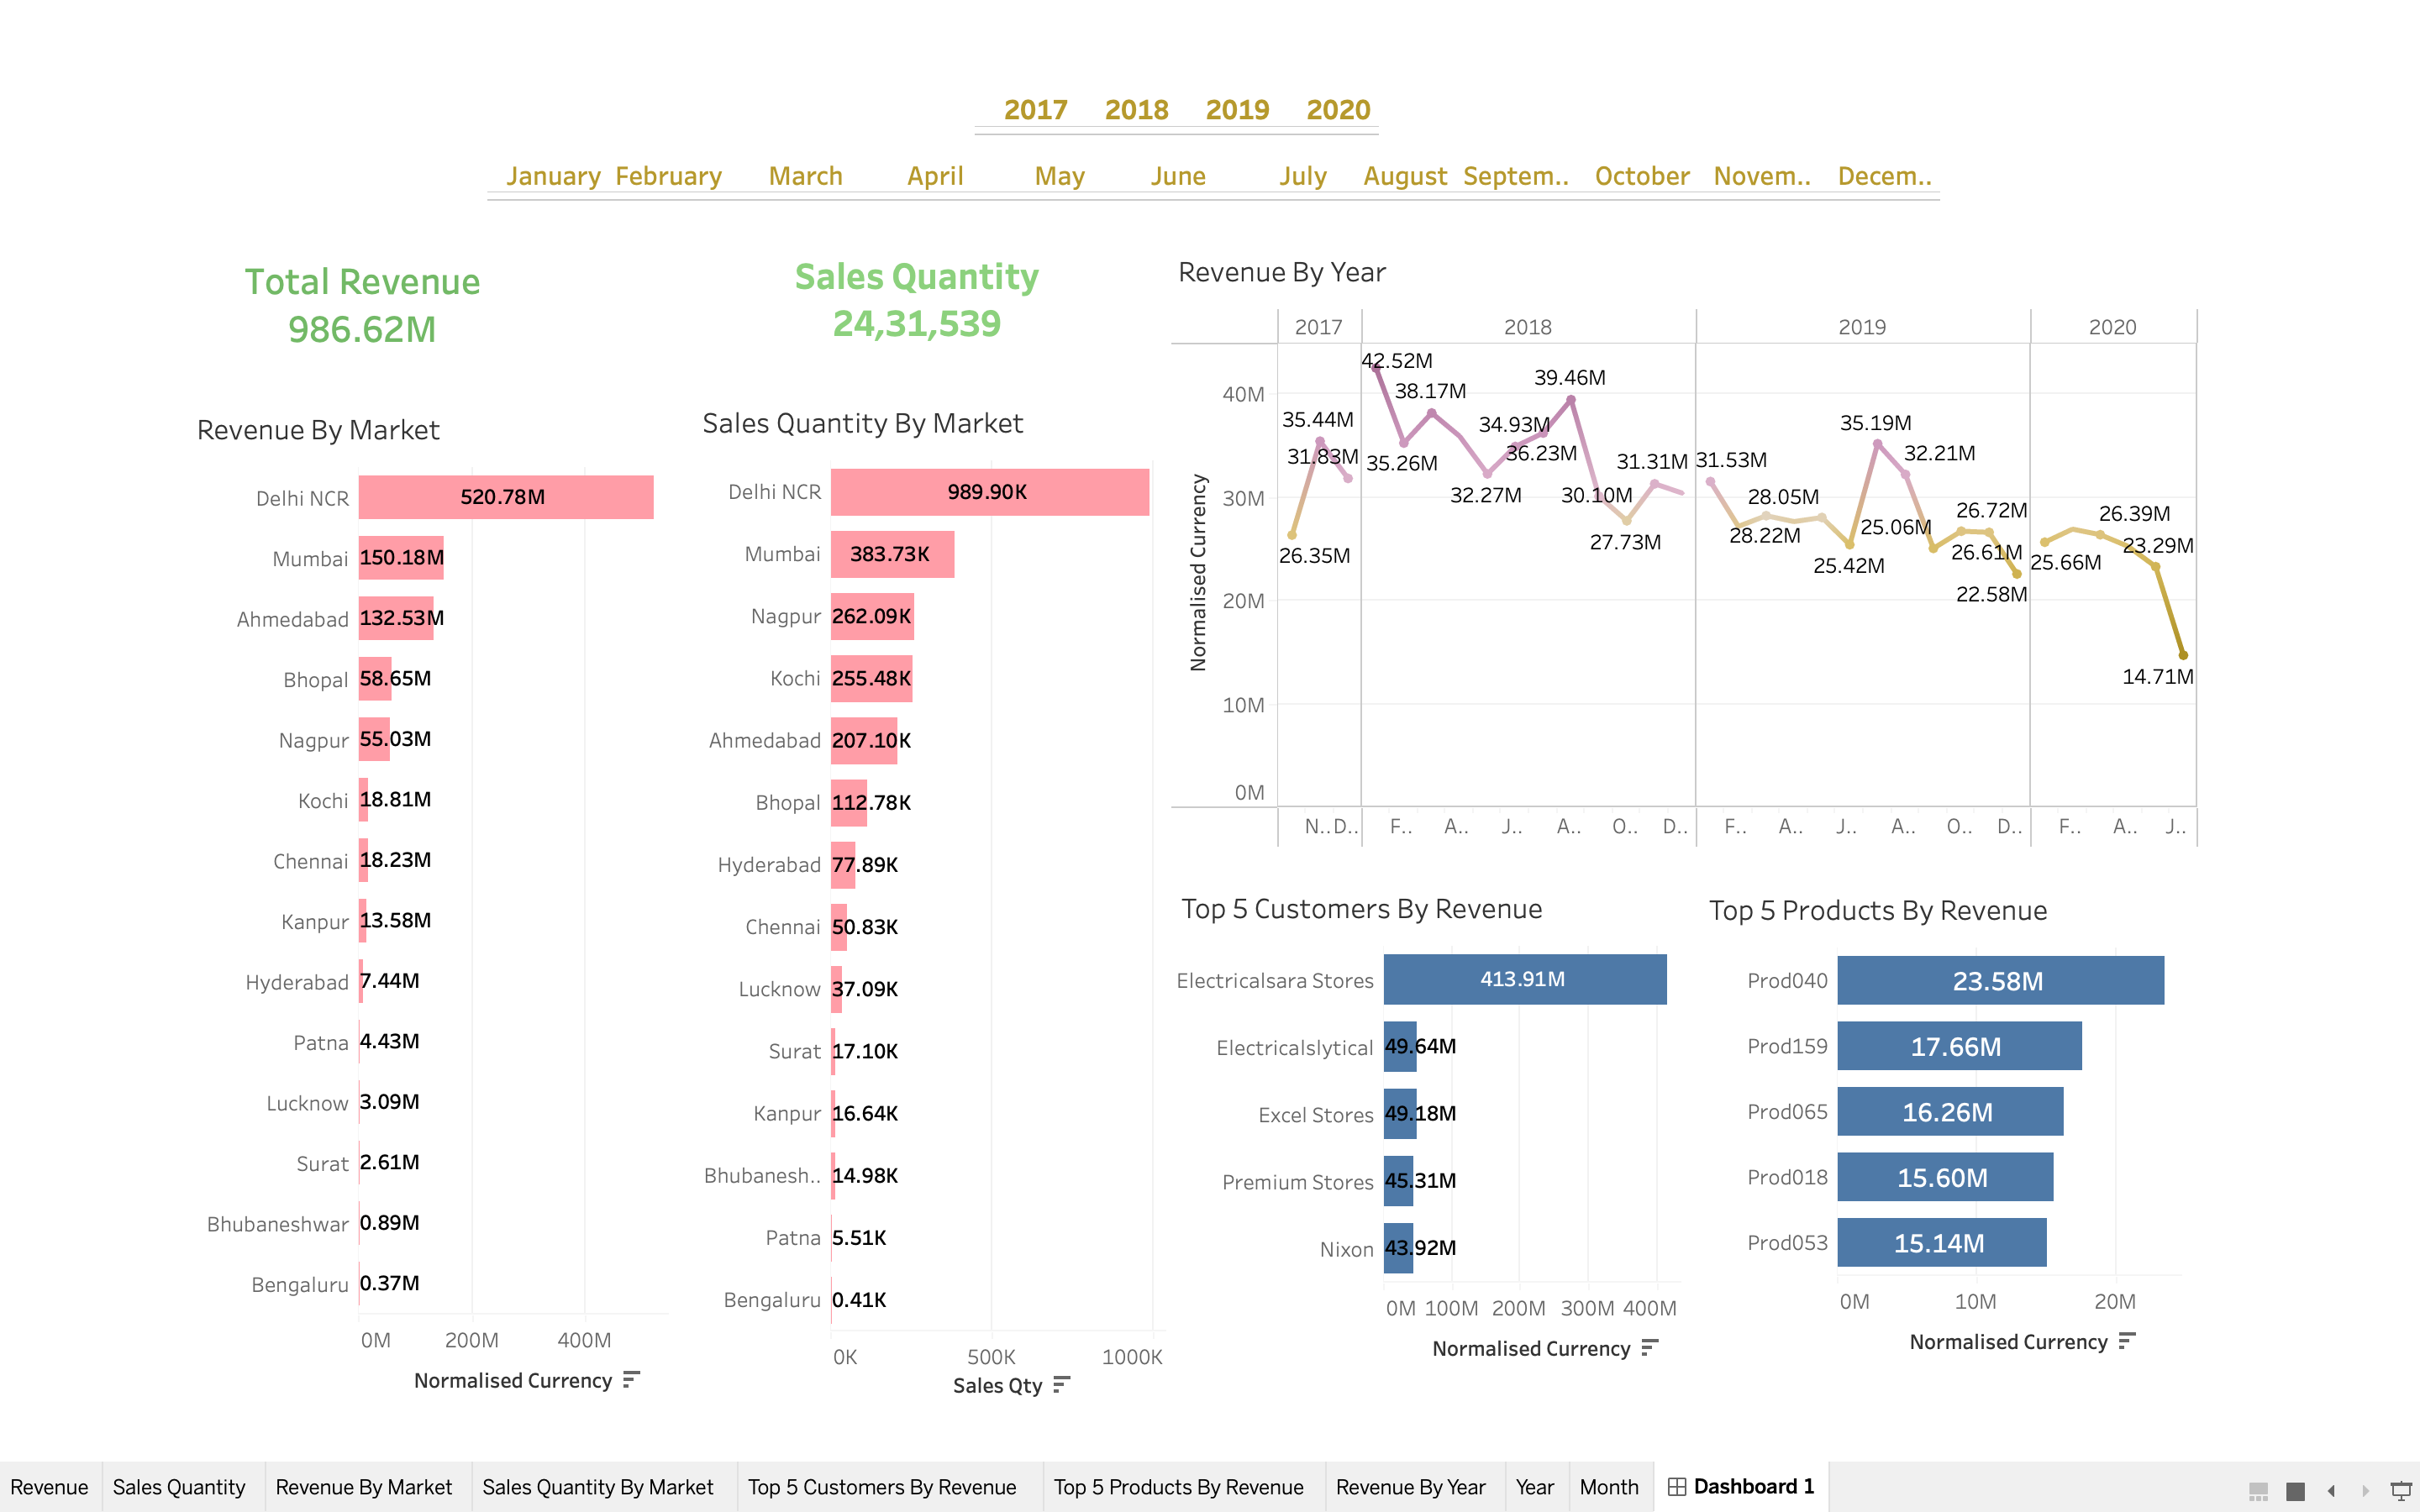

This screenshot's page, from the dashboard's own definition file:
{"tool":"tableau","page":{"name":"Dashboard 1","canvas":[1220,800],"ordinal":0},"visuals":[{"type":"worksheet","title":"Year","mark":"Automatic","cols":["cy_date"],"box":[470,20,252,31]},{"type":"worksheet","title":"Month","mark":"Automatic","cols":["cy_date"],"box":[180,59,880,37]},{"type":"worksheet","title":"Revenue By Year","mark":"Automatic","rows":["Calculation_6518679010618888193"],"cols":["cy_date","cy_date"],"box":[587,111,611,359]},{"type":"worksheet","title":"Sales Quantity","mark":"Automatic","box":[356,114,165,62]},{"type":"worksheet","title":"Revenue","mark":"Automatic","box":[26,117,166,60]},{"type":"worksheet","title":"Top 5 Customers By Revenue ","mark":"Automatic","rows":["custmer_name"],"cols":["Calculation_6518679010618888193"],"box":[589,490,317,309]},{"type":"worksheet","title":"Top 5 Products By Revenue","mark":"Automatic","rows":["product_code (products)"],"cols":["Calculation_6518679010618888193"],"box":[903,491,309,290]}]}

Visuals, with their boxes on the page's 1220x800 design canvas (x1, y1, x2, y2). These are canvas units, not pixel positions in the 2420x1512 screenshot, which may show the page scaled, cropped or inside an application window:
"Year" worksheet: 470:20:722:51
"Month" worksheet: 180:59:1060:96
"Revenue By Year" worksheet: 587:111:1198:470
"Sales Quantity" worksheet: 356:114:521:176
"Revenue" worksheet: 26:117:192:177
"Top 5 Customers By Revenue " worksheet: 589:490:906:799
"Top 5 Products By Revenue" worksheet: 903:491:1212:781
